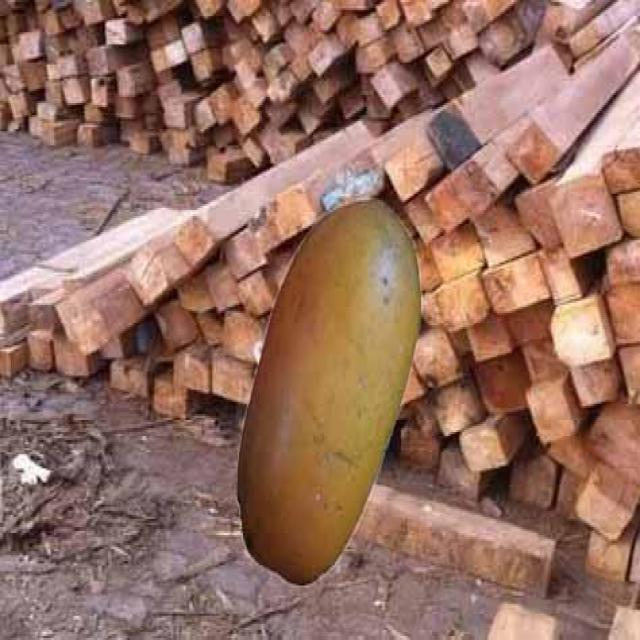Pepaya rippen: (231, 200, 417, 602)
